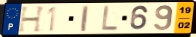1: (47, 7, 57, 32)
6: (130, 5, 150, 32)
9: (153, 5, 174, 32)
H: (17, 5, 47, 33)
I: (81, 5, 90, 33)
L: (100, 5, 119, 32)
